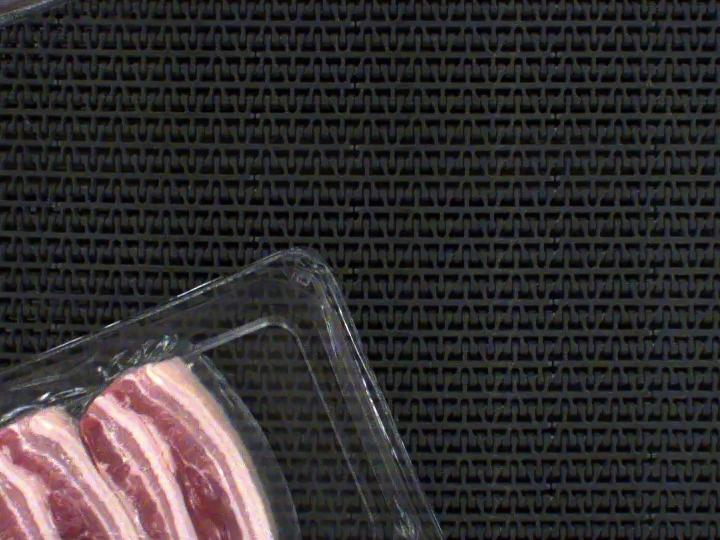unsealed: (0, 323, 315, 540)
